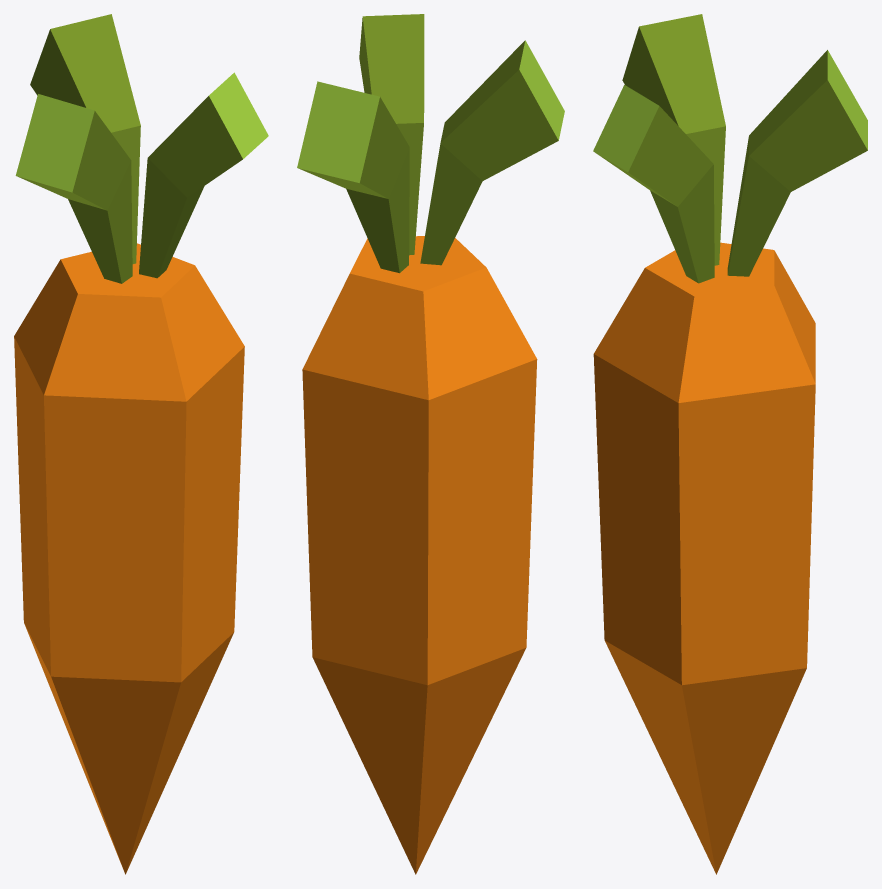
The model's file is TB_Prop_Carrot.FBX.
The picture shows the model from 3 angles, left to right: view 1: azimuth 30°, elevation 25°; view 2: azimuth 150°, elevation 25°; view 3: azimuth 270°, elevation 25°; orthographic projection.
Visible parts, largest first — view 1: TB_Prop_Carrot; view 2: TB_Prop_Carrot; view 3: TB_Prop_Carrot.
Part boxes in pixels (box(x1,y1,x2,y2)): TB_Prop_Carrot: box(14, 14, 268, 874); TB_Prop_Carrot: box(297, 14, 564, 874); TB_Prop_Carrot: box(593, 14, 867, 874).
Size of the model in its own units: 0.1719 by 0.59 by 0.1803.
